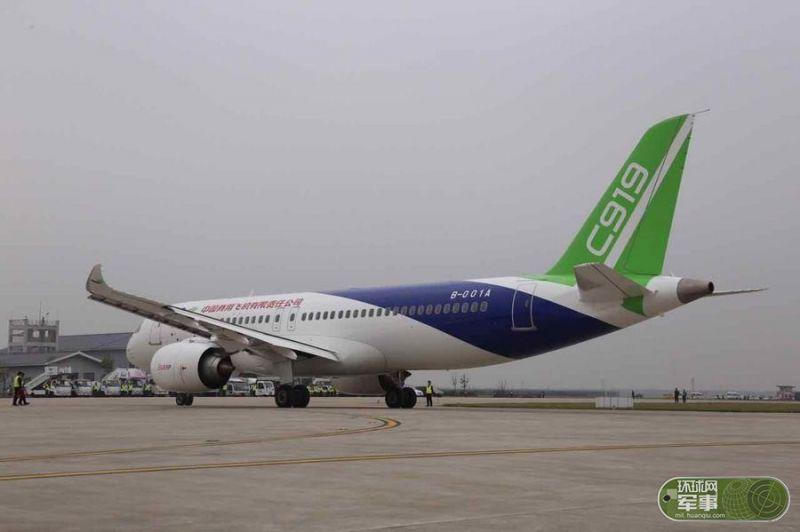airplane: (84, 109, 727, 411)
